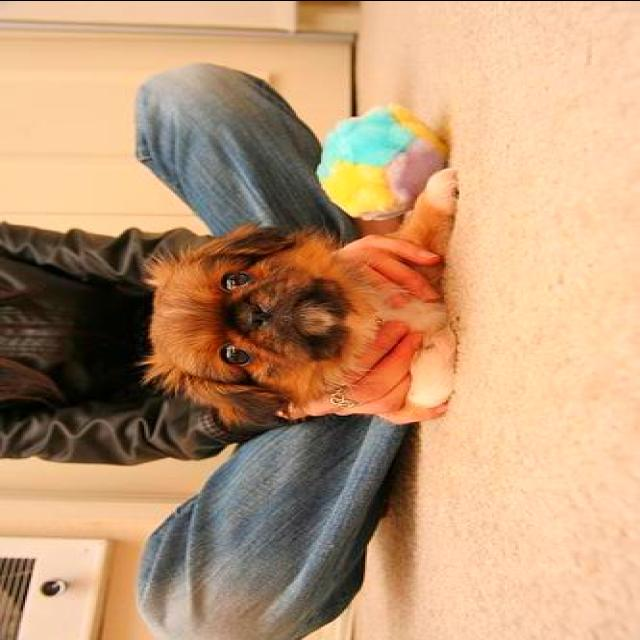pekinese: (140, 166, 458, 428)
